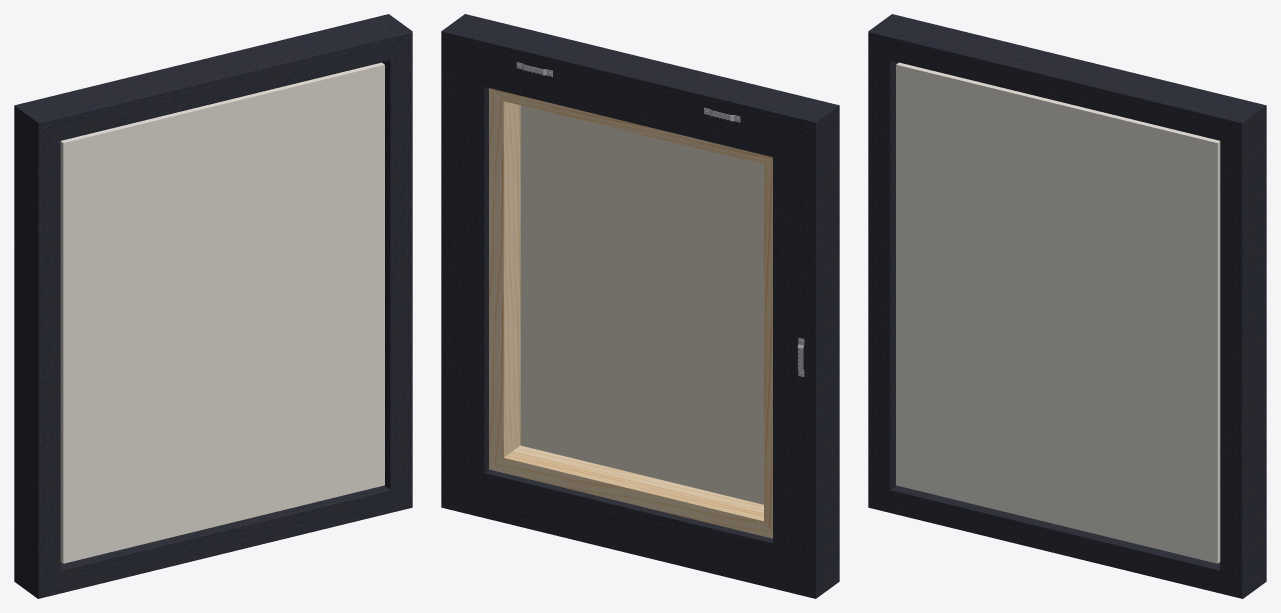
Rendered from delivery.glb.
3 views of the same model, side by side, from view 1: azimuth 30°, elevation 25°; view 2: azimuth 150°, elevation 25°; view 3: azimuth 330°, elevation 25° (orthographic).
Visible parts, largest first — view 1: Canvas artwork front, Tray approved profile 0; view 2: Tray approved profile 0, Canvas linen reverse, Stretcher top, Sawtooth hanger 0; view 3: Canvas artwork front, Tray approved profile 0.
Part boxes in pixels (x1,y1,x2,y2): Canvas artwork front: [60, 62, 384, 563]; Tray approved profile 0: [14, 14, 412, 598]; Tray approved profile 0: [441, 14, 839, 598]; Canvas linen reverse: [520, 105, 763, 504]; Stretcher top: [489, 88, 772, 538]; Sawtooth hanger 0: [516, 62, 804, 376]; Canvas artwork front: [896, 62, 1220, 563]; Tray approved profile 0: [868, 14, 1266, 598].
Size of the model in its own units: 0.466 by 0.566 by 0.0544.
Materials: 7 (3 with a texture image).
